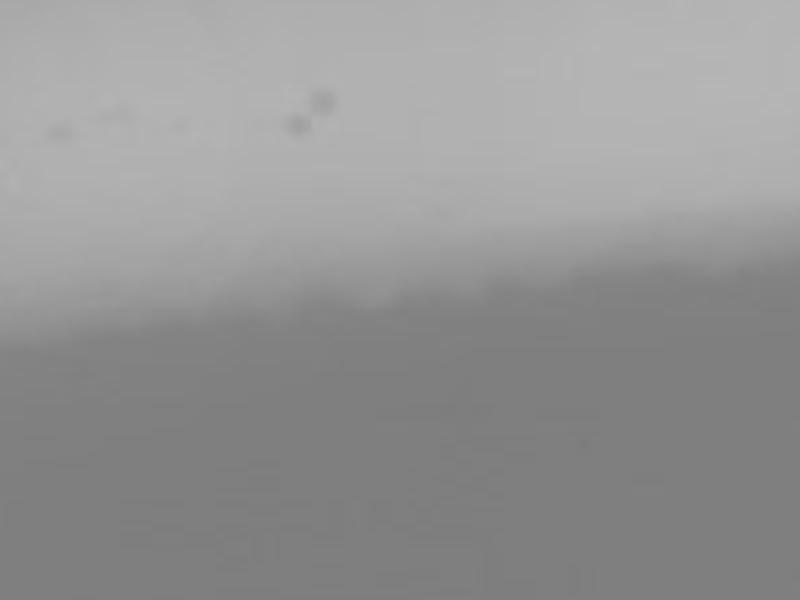defect: (46, 118, 81, 147), (281, 110, 314, 140), (312, 89, 340, 116)
